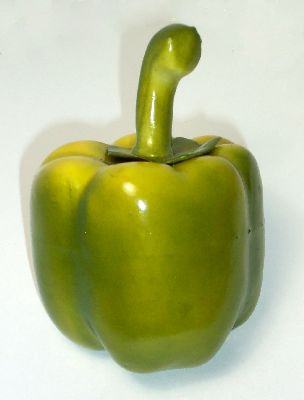capsicum: (27, 22, 268, 376)
